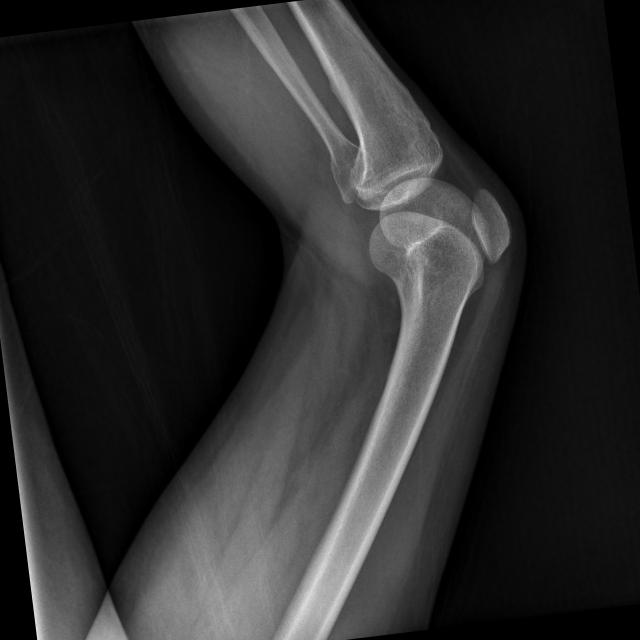Knee: (342, 107, 518, 289)
